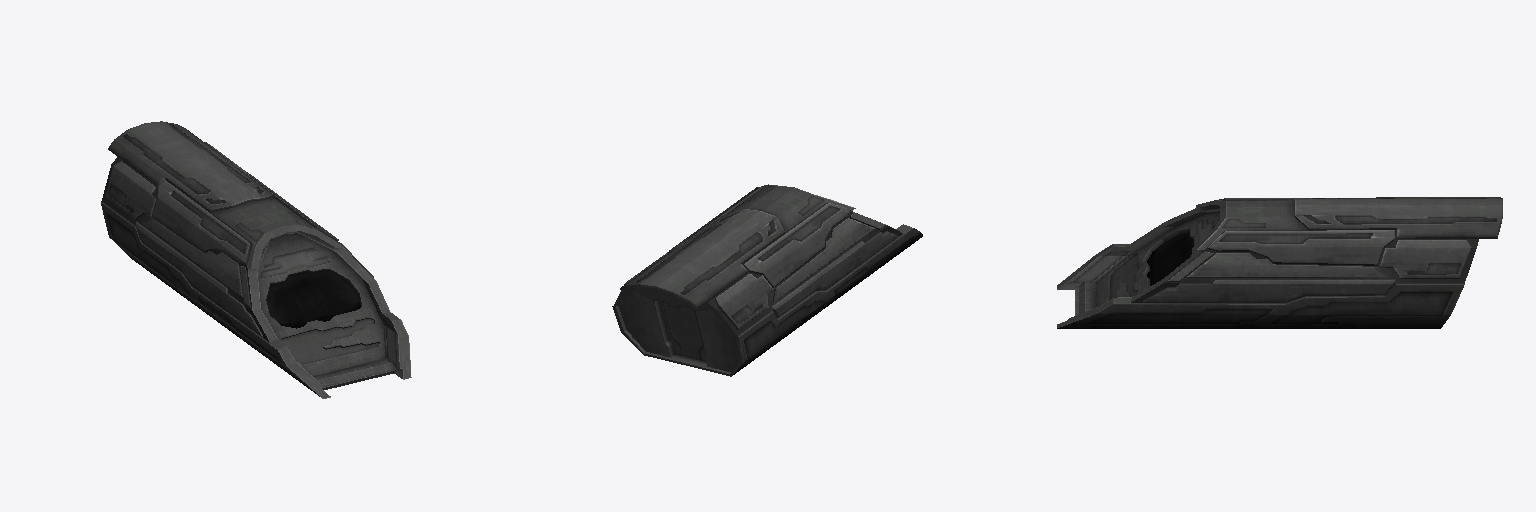
3 views of the same model, side by side, from view 1: azimuth 30°, elevation 25°; view 2: azimuth 150°, elevation 25°; view 3: azimuth 270°, elevation 25° (orthographic).
Parts seen in each view (by area): view 1: PuddleJumper; view 2: PuddleJumper; view 3: PuddleJumper.
Boxes of the visible parts, x1,y1,x2,y2 form: PuddleJumper: [101, 121, 411, 398]; PuddleJumper: [612, 184, 922, 376]; PuddleJumper: [1057, 197, 1502, 328].
Size of the model in its own units: 9.55 by 7.3 by 28.89.
Materials: 1 (1 with a texture image).